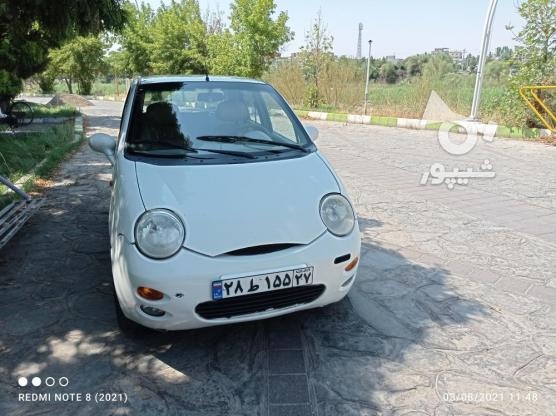car: (210, 263, 312, 300)
